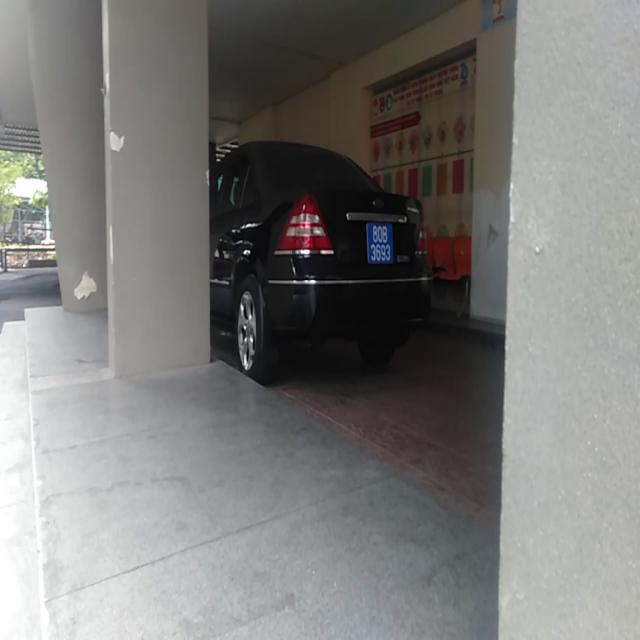bien_xanh: (367, 216, 398, 272)
